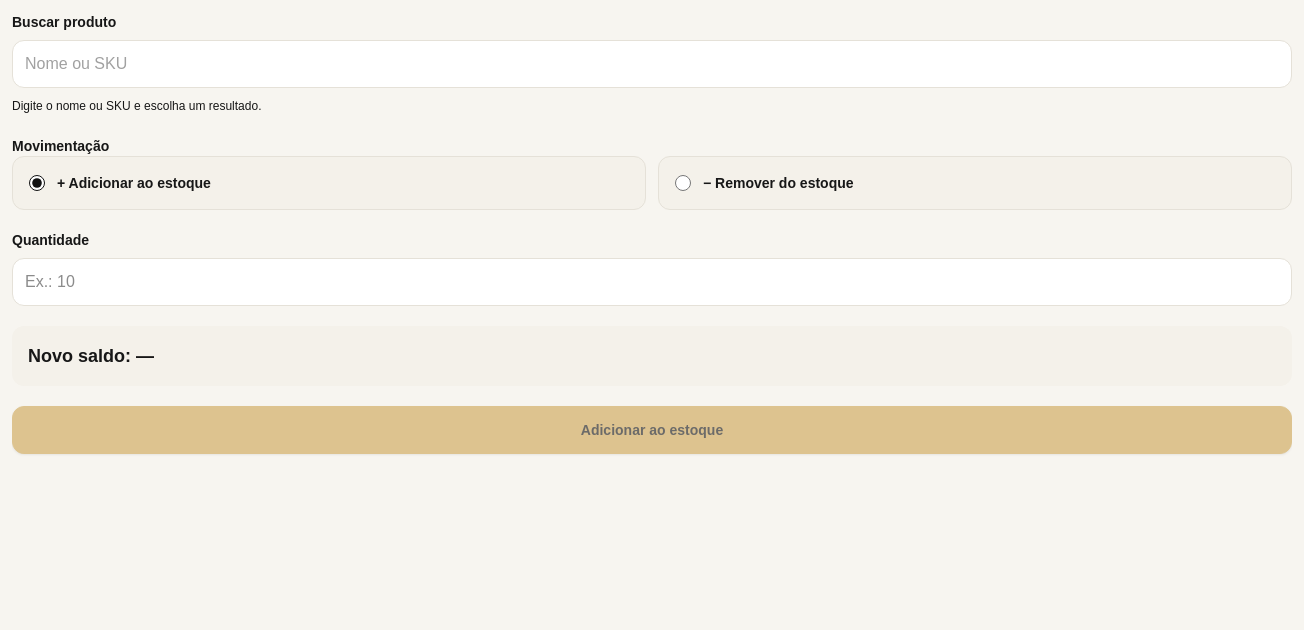
StockAdjustmentForm › shows add/remove controls and requires product and positive quantity
Expected: the radio button labelled "+ Adicionar ao estoque" is checked, [29,175,45,191]
Expected: the radio button labelled "− Remover do estoque" is not checked, [675,175,691,191]
In the dropdown labelled "Buscar produto": (652,64) [12,40,1292,88], type "camiseta"
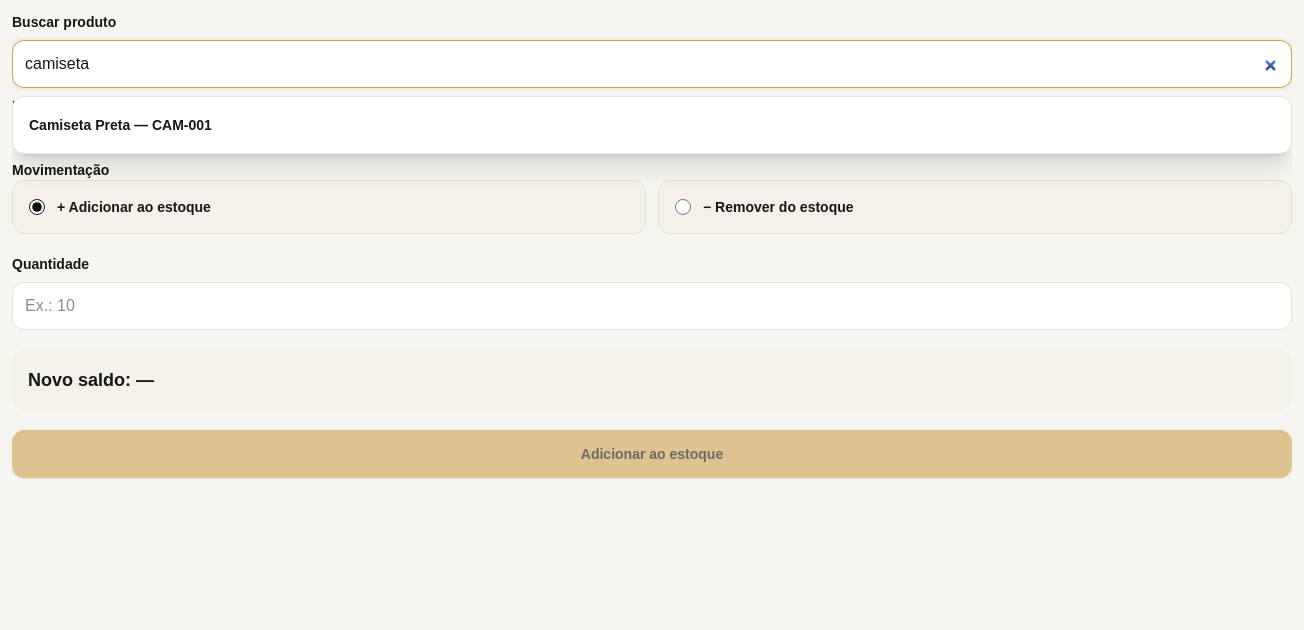
Click the option "Camiseta Preta — CAM-001": (120,125) [17,101,1287,149]
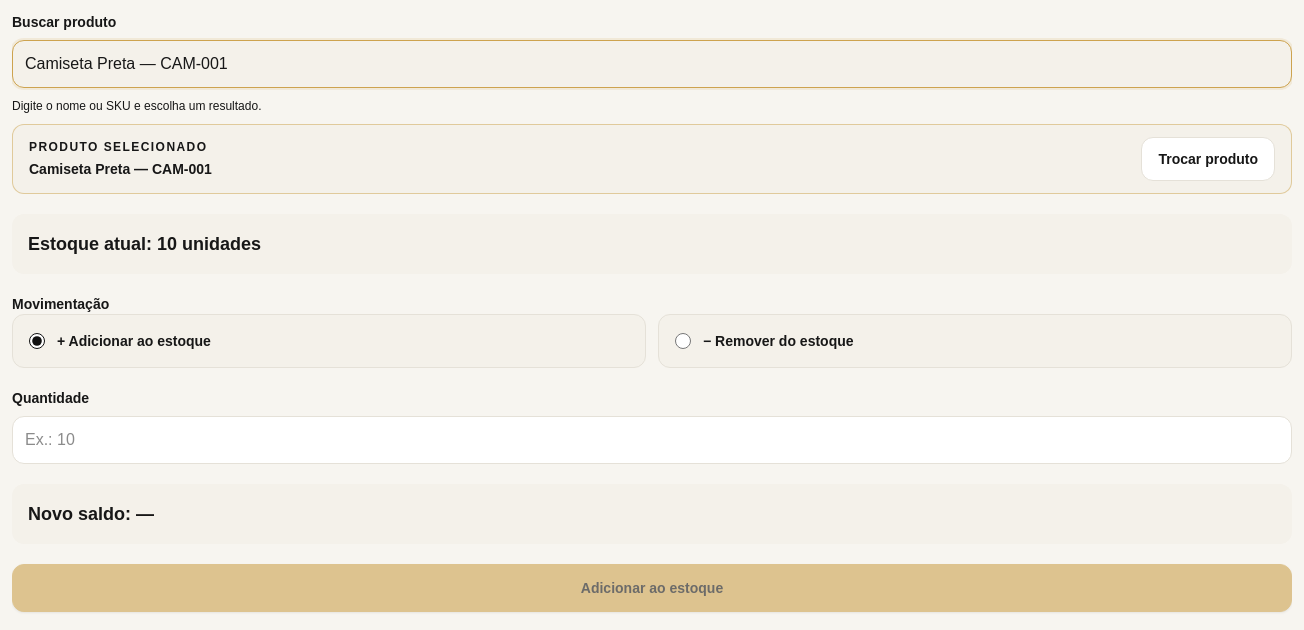
Expected: the button "Adicionar ao estoque" is disabled, [12,564,1292,612]
Now the message "Estoque atual" reads "Estoque atual: 10 unidades", box [12,214,1292,274]
In the field labelled "Quantidade": (652,440) [12,416,1292,464], type "5"
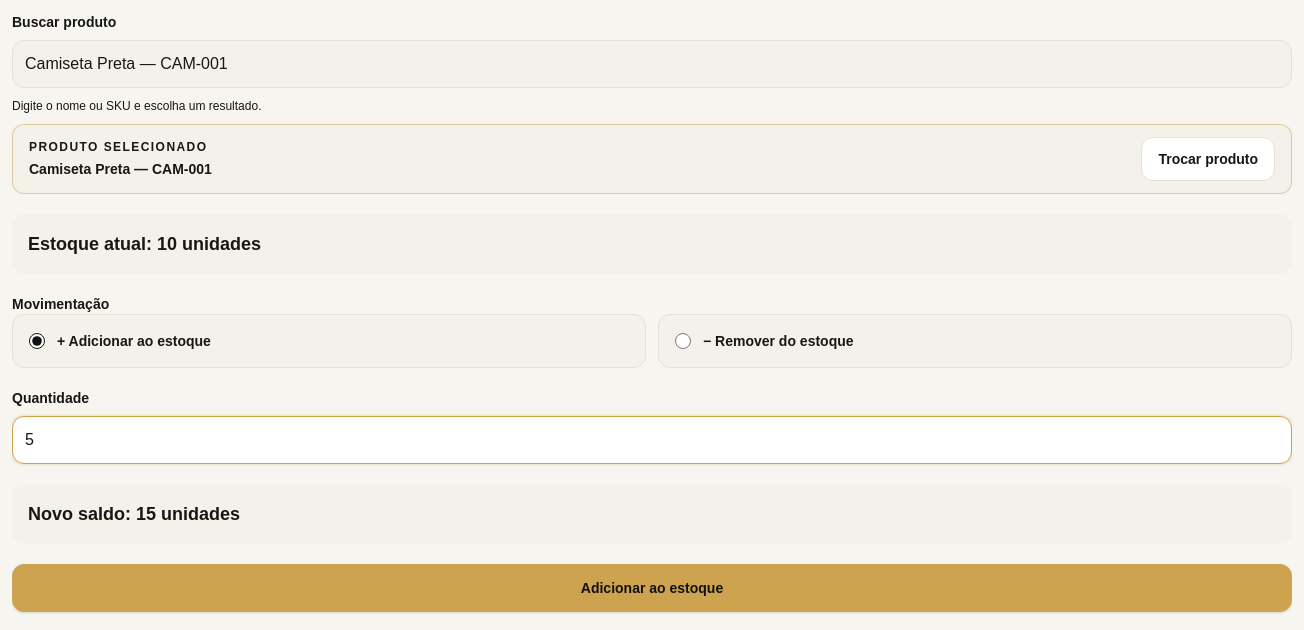
Now the button "Adicionar ao estoque" is enabled, box [12,564,1292,612]
